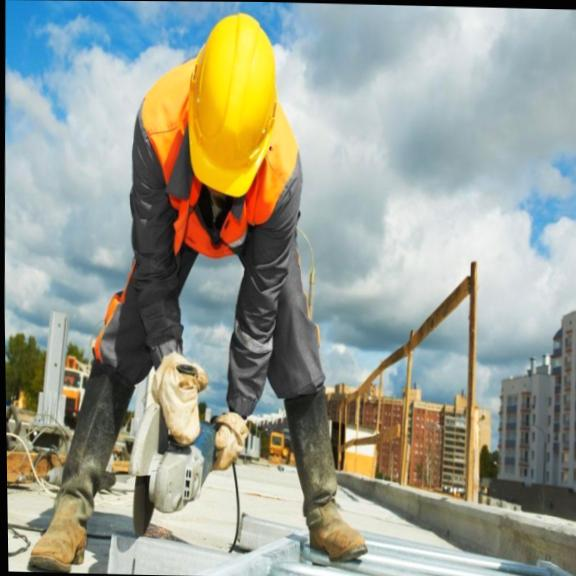safety_vest: (104, 105, 302, 272)
